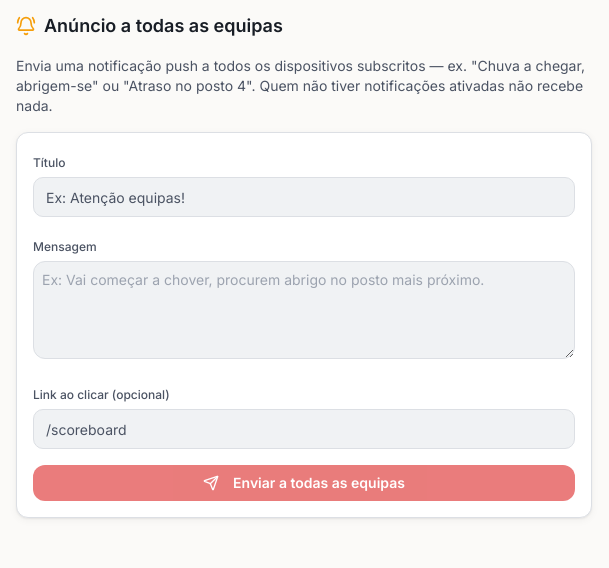
Scenario: BroadcastTab › shows an error message when the broadcast fails
Type "Título" into the field with placeholder "Ex: Atenção equipas!". click: [304, 197]
box: [33,177,575,217]
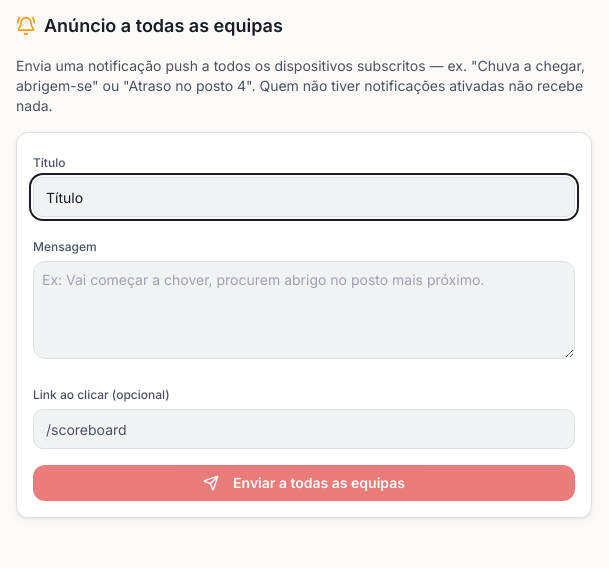
Type "Mensagem" into the text box with placeholder "Vai começar a chover". click: [304, 310]
box: [33,261,575,359]
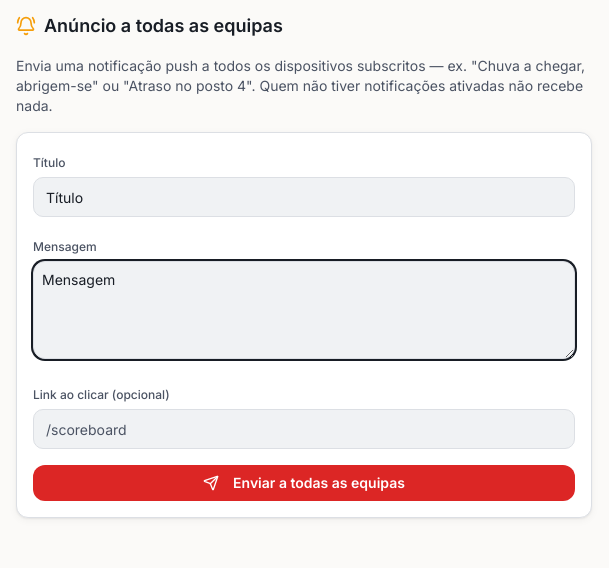
Click the button "Enviar a todas as equipas". click: [304, 483]
box: [33,465,575,501]
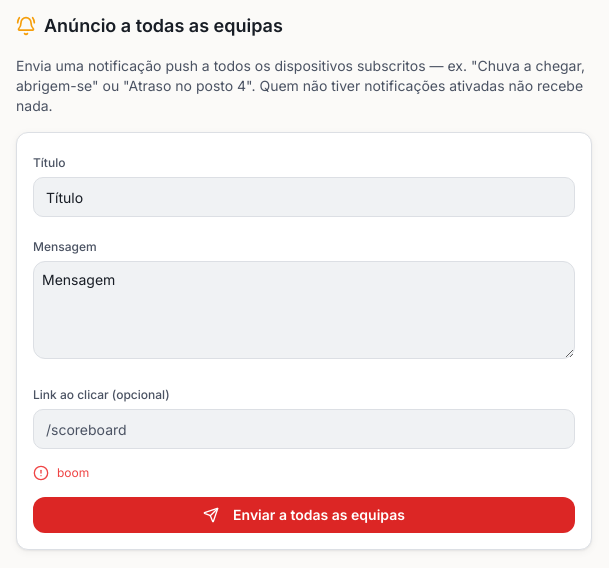
Check: the text "boom" is shown, box [33,465,89,481]
